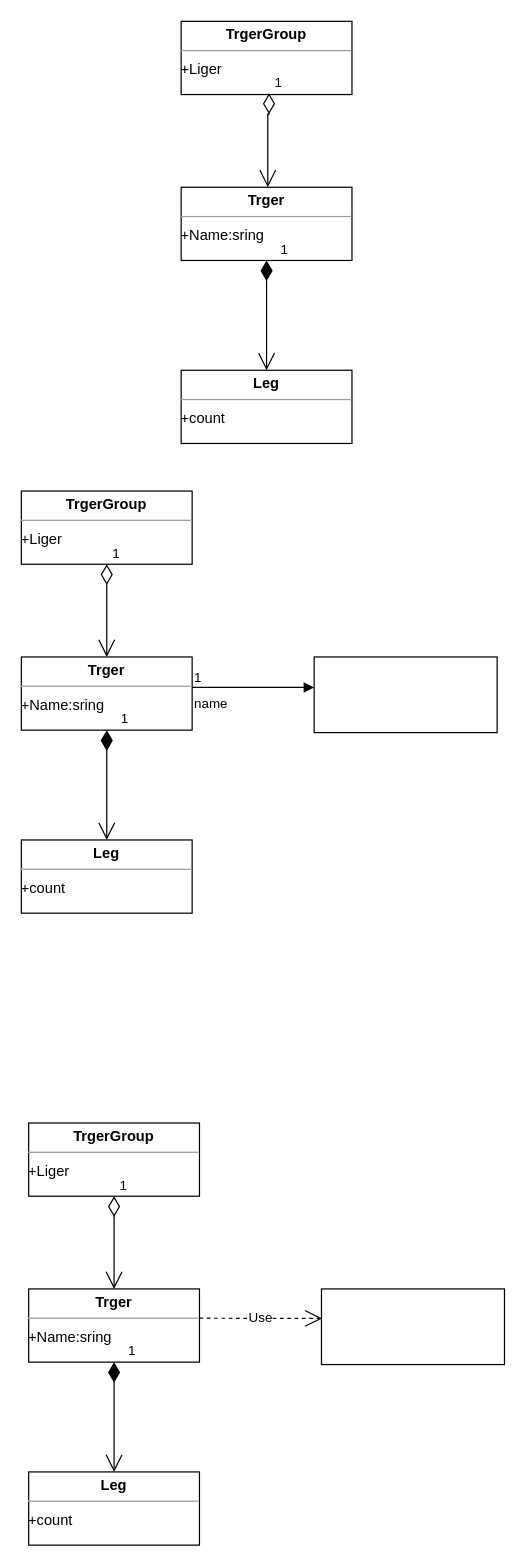
Image size: 526x1566. Some labels were removed from this diagram. Each missing label, with the centre of its shape:
Food +foodName +foodColor: the point at 405,694
Water -weight: the point at 412,1326
